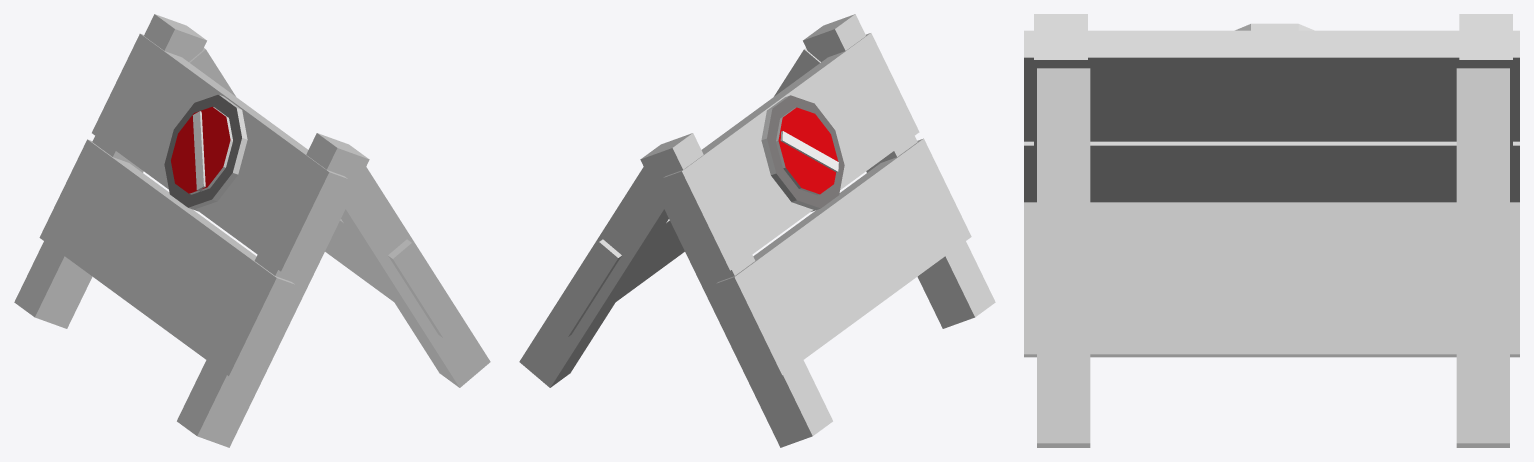
File: StopBarrier.fbx
3 views of the same model, side by side, from view 1: azimuth 30°, elevation 25°; view 2: azimuth 150°, elevation 25°; view 3: azimuth 270°, elevation 25° (orthographic). The views are drawn at different scales.
Parts seen in each view (by area): view 1: Sign; view 2: Sign; view 3: Sign.
Part boxes in pixels (left/top/right/bottom): Sign: left=14, top=14, right=490, bottom=447; Sign: left=519, top=14, right=995, bottom=447; Sign: left=1024, top=14, right=1519, bottom=447.
Size of the model in its own units: 515 by 457 by 573.
